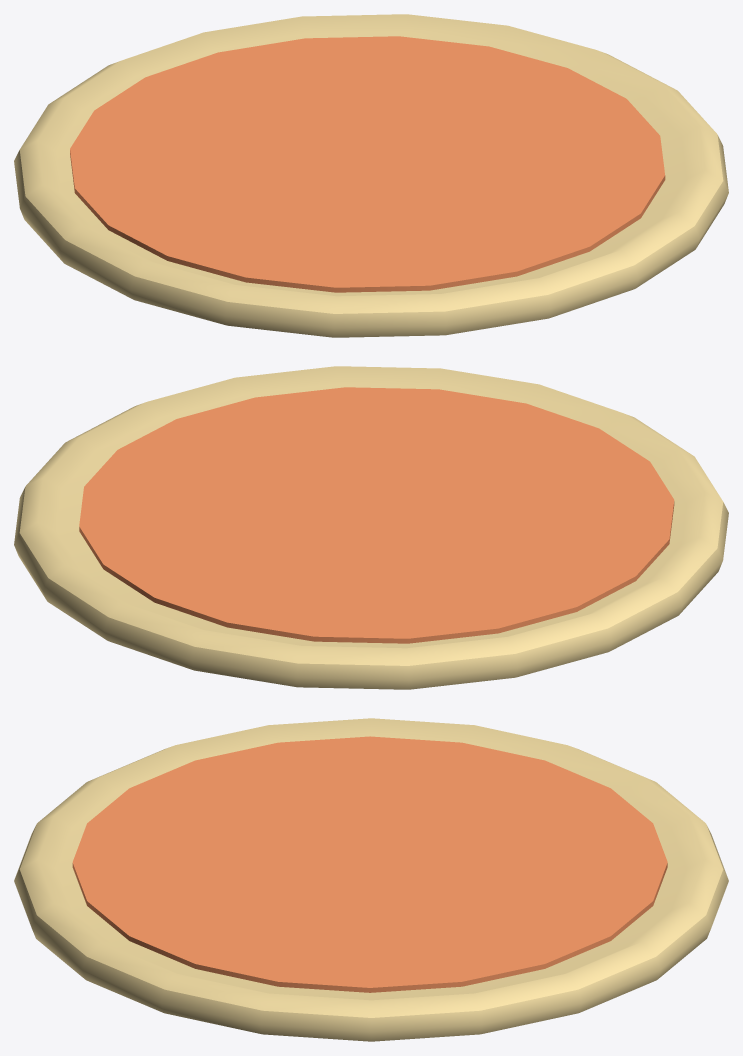
Rendered from Pizza_margarita.fbx.
3 renders of one model, top to bottom at view 1: azimuth 30°, elevation 25°; view 2: azimuth 150°, elevation 25°; view 3: azimuth 270°, elevation 25°, orthographic.
Visible parts, largest first — view 1: ost, deig; view 2: ost, deig; view 3: ost, deig.
Part boxes in pixels (<box>): ost: <box>70,36,665,292</box>; deig: <box>14,14,728,337</box>; ost: <box>79,387,674,643</box>; deig: <box>14,366,728,689</box>; ost: <box>72,736,667,992</box>; deig: <box>14,718,728,1041</box>.
Size of the model in its own units: 11.4 by 0.586 by 11.4.
